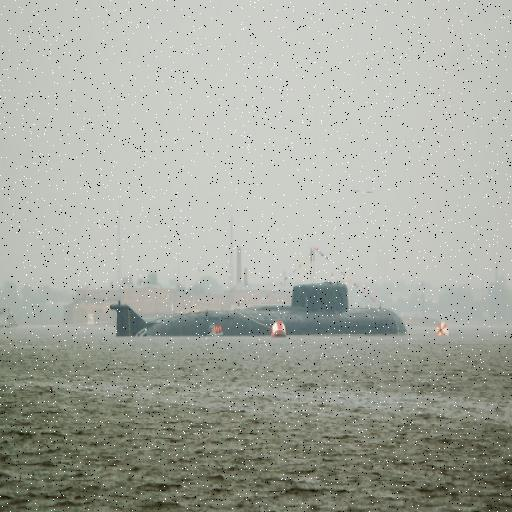submarine: (117, 269, 444, 341)
